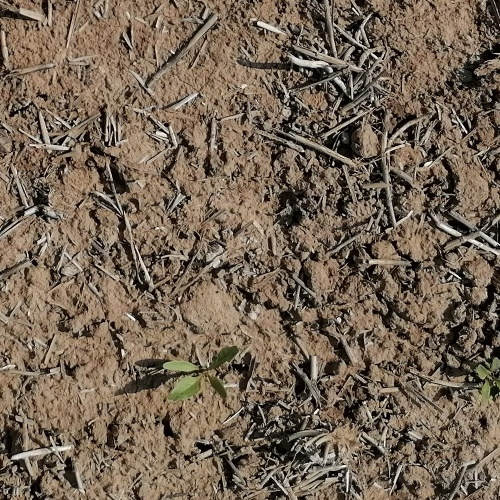beet: (163, 343, 240, 407), (476, 356, 500, 409)
